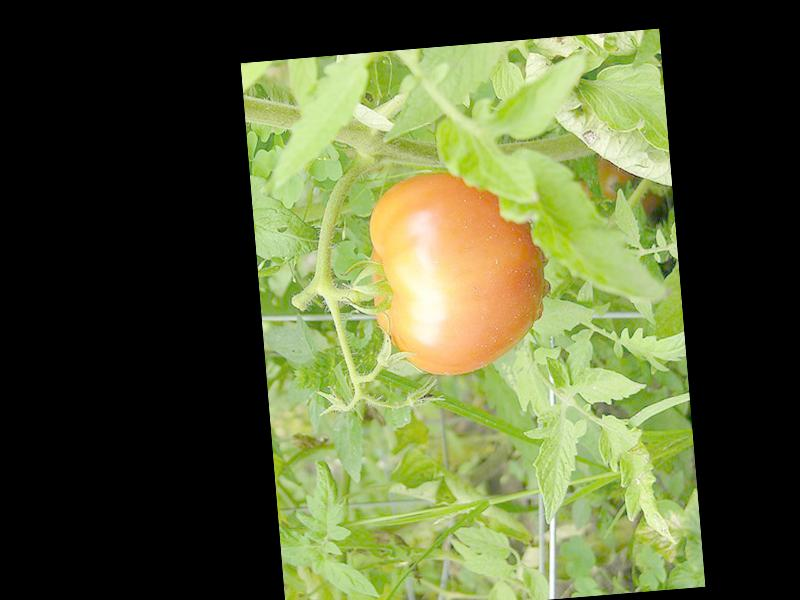Tomato: (362, 166, 548, 379)
